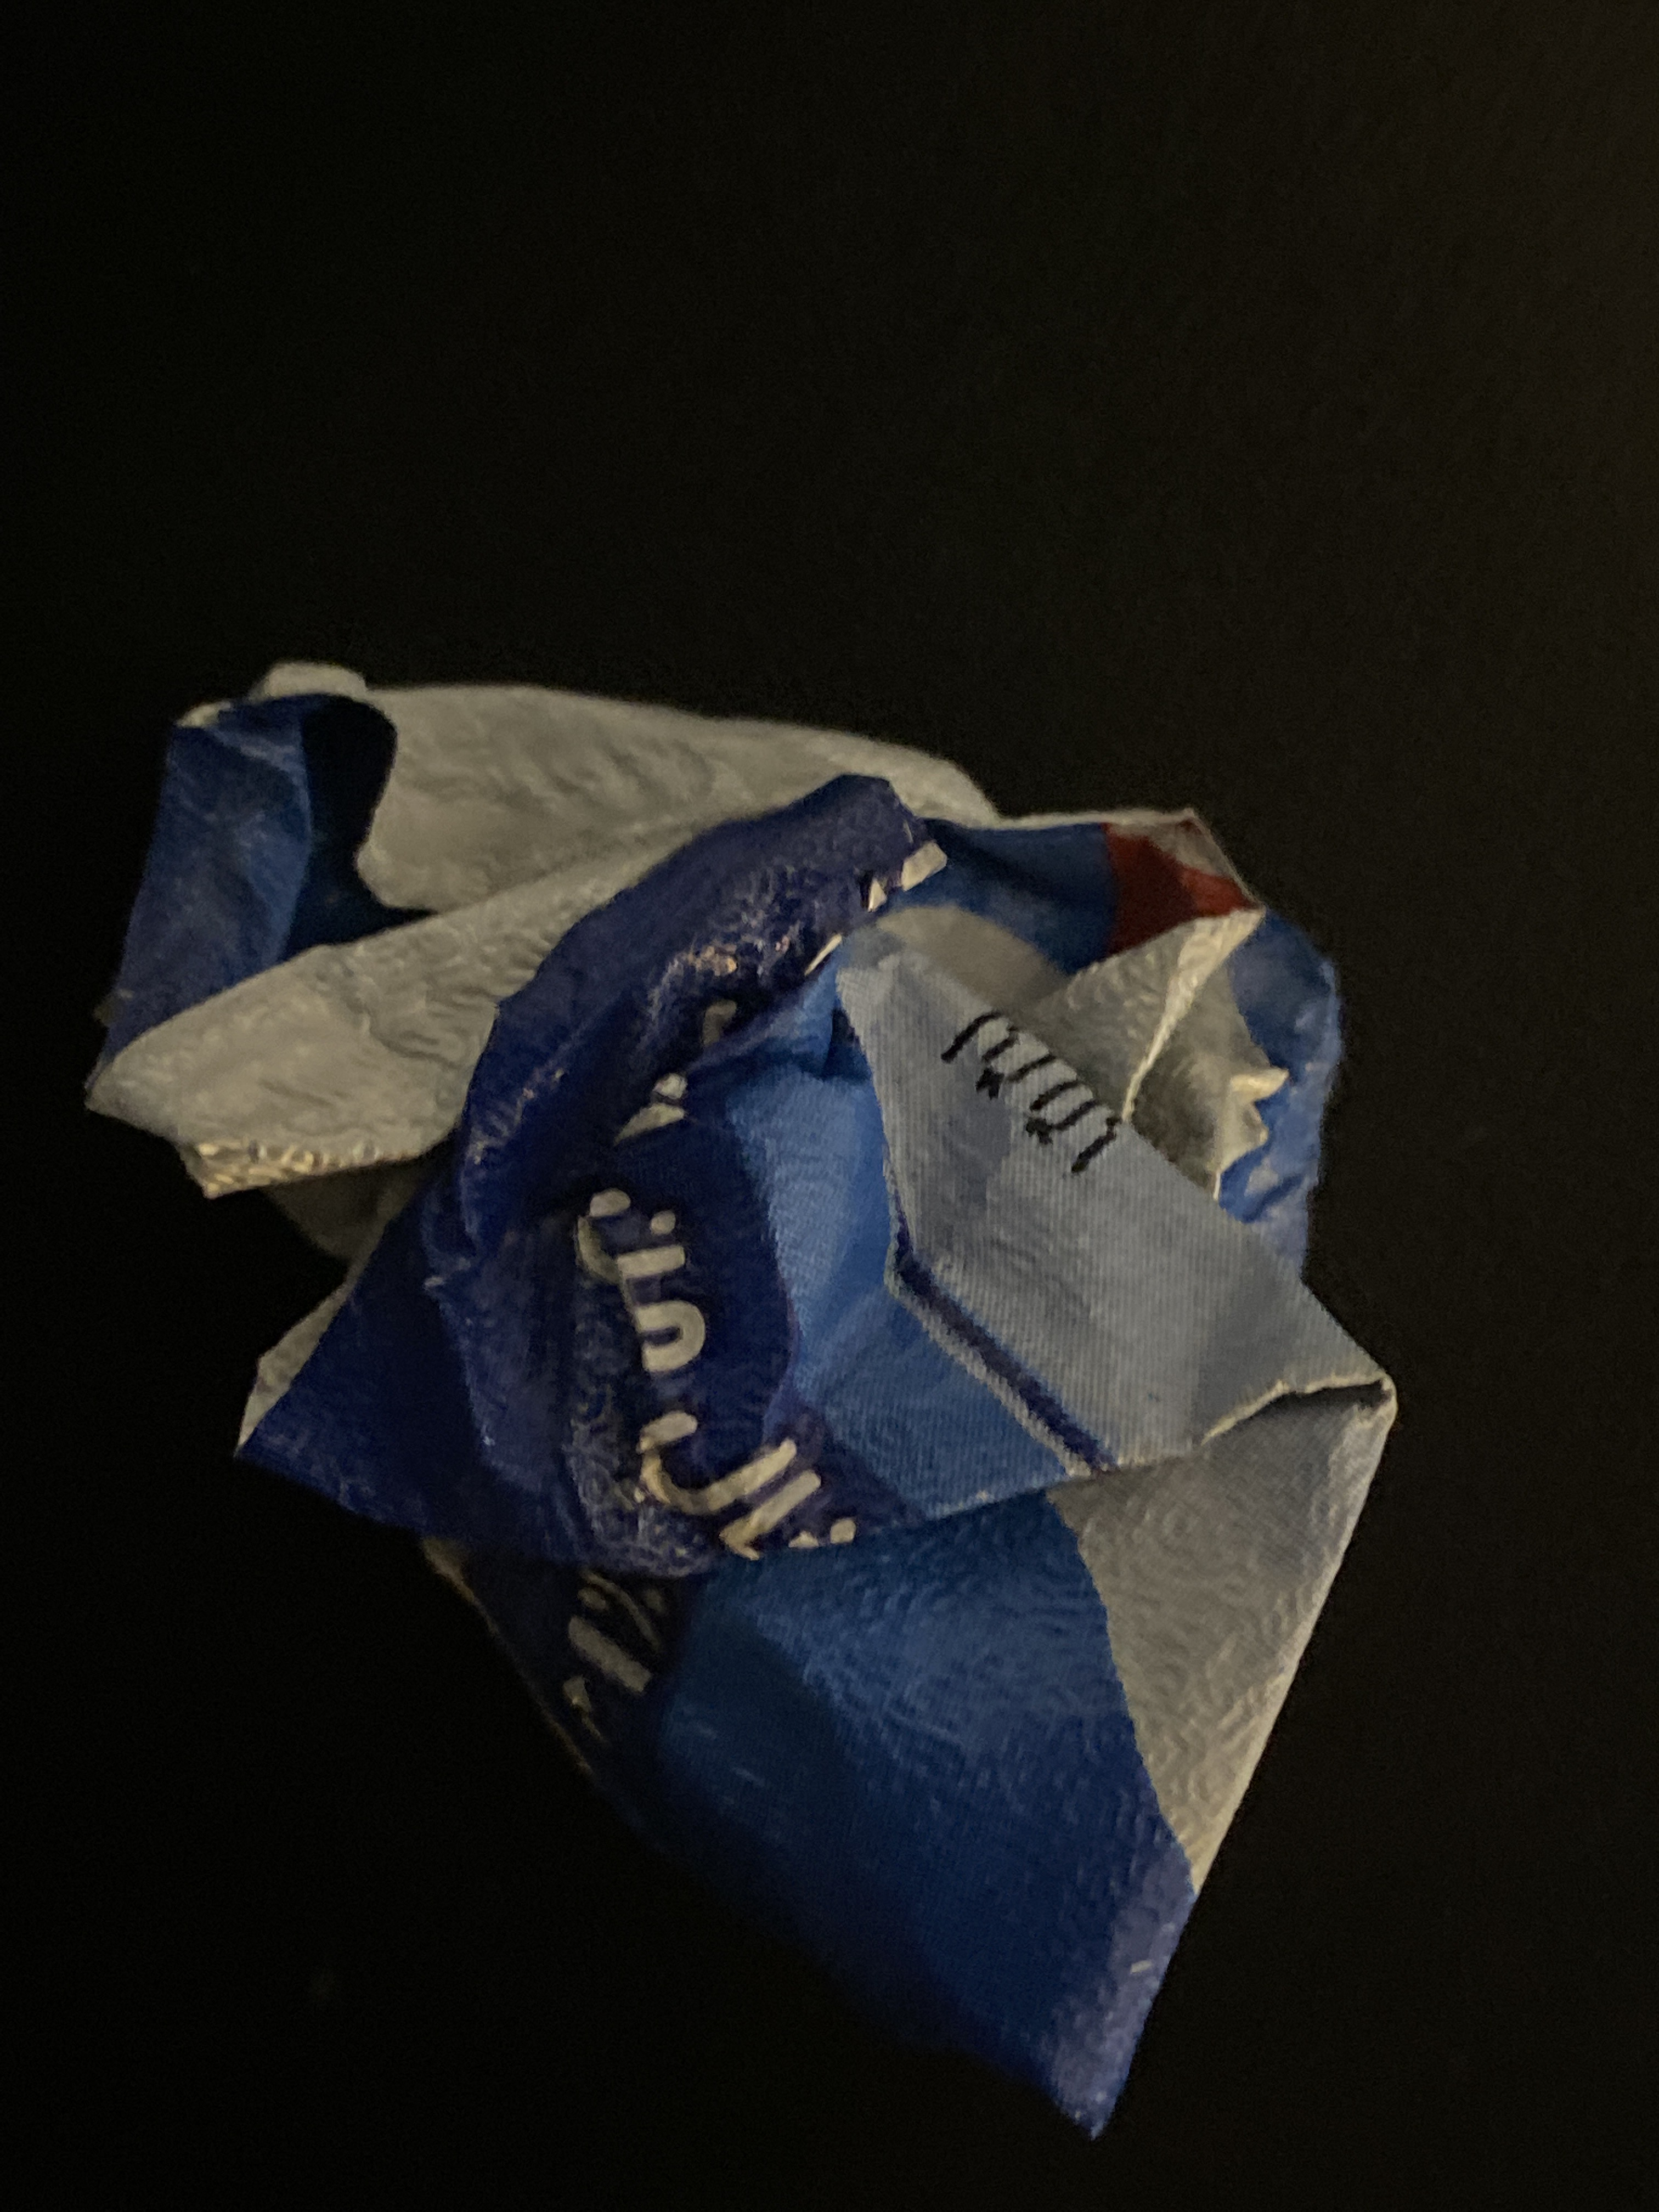metal: (68, 597, 1417, 2212)
